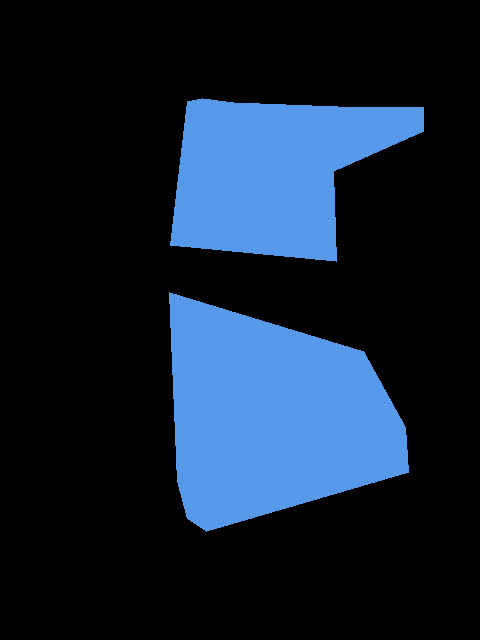Airplane: (169, 98, 424, 531)
